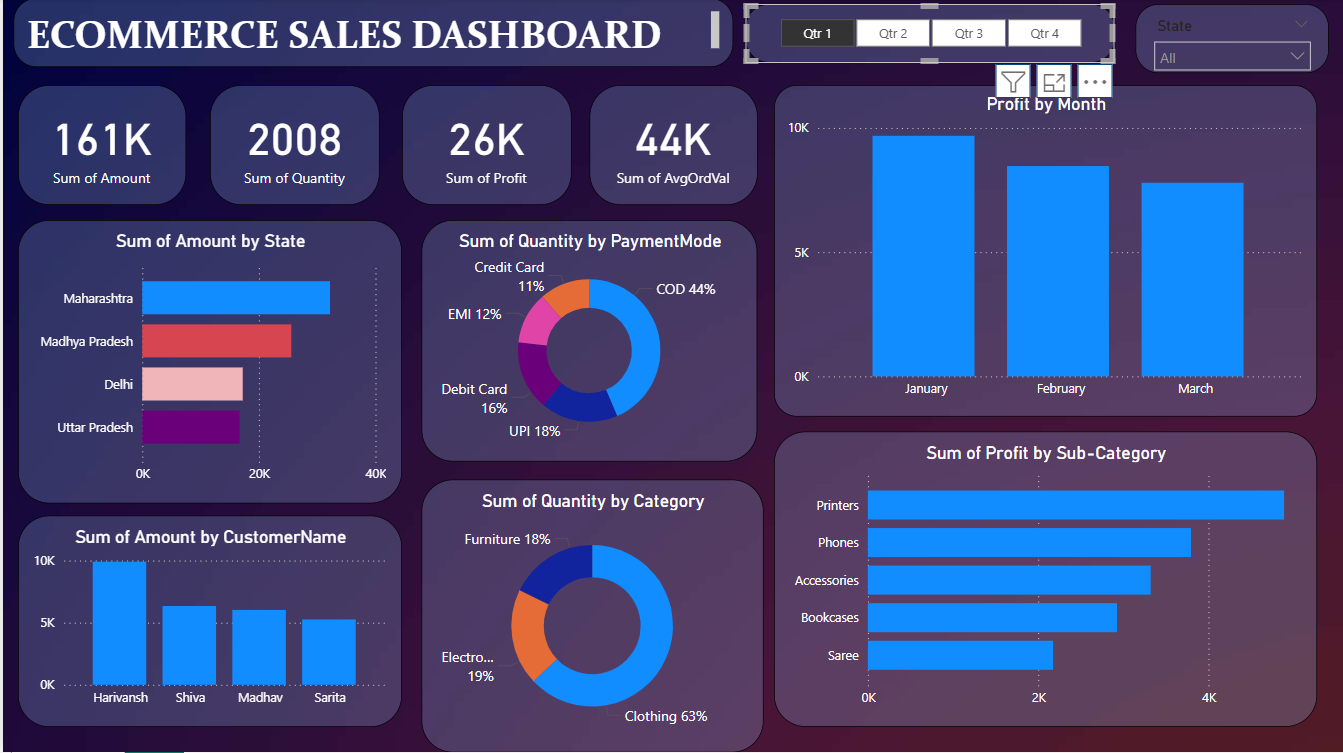

The dashboard page shown, as its layout file describes it:
{"tool":"powerbi","page":{"name":"Page 1","canvas":[1280,720],"ordinal":0},"visuals":[{"type":"textbox","box":[10,0,687.5,65.9],"z":0},{"type":"columnChart","title":"Profit by Month","fields":{"Y":["Details.Profit"],"Category":["Orders.Order Date.Variation.Date Hierarchy.Month"]},"box":[736.2,83.1,518.5,316.6],"z":1000},{"type":"barChart","fields":{"Category":["Details.Sub-Category"],"Y":["Details.Profit"]},"box":[736.2,414,518.5,282.2],"z":2000},{"type":"donutChart","fields":{"Category":["Details.Category"],"Y":["Details.Quantity"]},"box":[399.6,459.8,326.6,260.7],"z":3000},{"type":"donutChart","fields":{"Category":["Details.PaymentMode"],"Y":["Details.Quantity"]},"box":[399.6,212,320.9,230.6],"z":4000},{"type":"card","fields":{"Values":["Details.Amount"]},"box":[14.3,83.1,160.4,114.6],"z":5000},{"type":"card","fields":{"Values":["Details.Quantity"]},"box":[197.7,83.1,161.9,114.6],"z":6000},{"type":"card","fields":{"Values":["Details.Profit"]},"box":[381,83.1,161.9,114.6],"z":7000},{"type":"card","fields":{"Values":["Details.AvgOrdVal"]},"box":[560.1,83.1,160.4,114.6],"z":8000},{"type":"barChart","fields":{"Category":["Orders.State"],"Y":["Details.Amount"]},"box":[14.3,212,366.7,270.7],"z":9000},{"type":"columnChart","fields":{"Category":["Orders.CustomerName"],"Y":["Details.Amount"]},"box":[14.3,494.2,366.7,202],"z":10000},{"type":"slicer","fields":{"Values":["Orders.Order Date.Variation.Date Hierarchy.Quarter"]},"box":[709,5.7,352.4,55.9],"z":11000},{"type":"slicer","fields":{"Values":["Orders.State"]},"box":[1081.5,5.7,184.8,65.9],"z":12000}]}

Visuals, with their boxes in screenshot pixels (x1, y1, x2, y2), scaled from the page's 1280x720 canvas onto the 1343x753 screenshot:
textbox: (x1=10, y1=0, x2=732, y2=69)
"Profit by Month" columnChart: (x1=772, y1=87, x2=1316, y2=418)
barChart - Details.Sub-Category x Details.Profit: (x1=772, y1=433, x2=1316, y2=728)
donutChart - Details.Category x Details.Quantity: (x1=419, y1=481, x2=762, y2=752)
donutChart - Details.PaymentMode x Details.Quantity: (x1=419, y1=222, x2=756, y2=463)
card - Details.Amount: (x1=15, y1=87, x2=183, y2=207)
card - Details.Quantity: (x1=207, y1=87, x2=377, y2=207)
card - Details.Profit: (x1=400, y1=87, x2=570, y2=207)
card - Details.AvgOrdVal: (x1=588, y1=87, x2=756, y2=207)
barChart - Orders.State x Details.Amount: (x1=15, y1=222, x2=400, y2=505)
columnChart - Orders.CustomerName x Details.Amount: (x1=15, y1=517, x2=400, y2=728)
slicer - Orders.Order Date.Variation.Date Hierarchy.Quarter: (x1=744, y1=6, x2=1114, y2=64)
slicer - Orders.State: (x1=1135, y1=6, x2=1329, y2=75)
